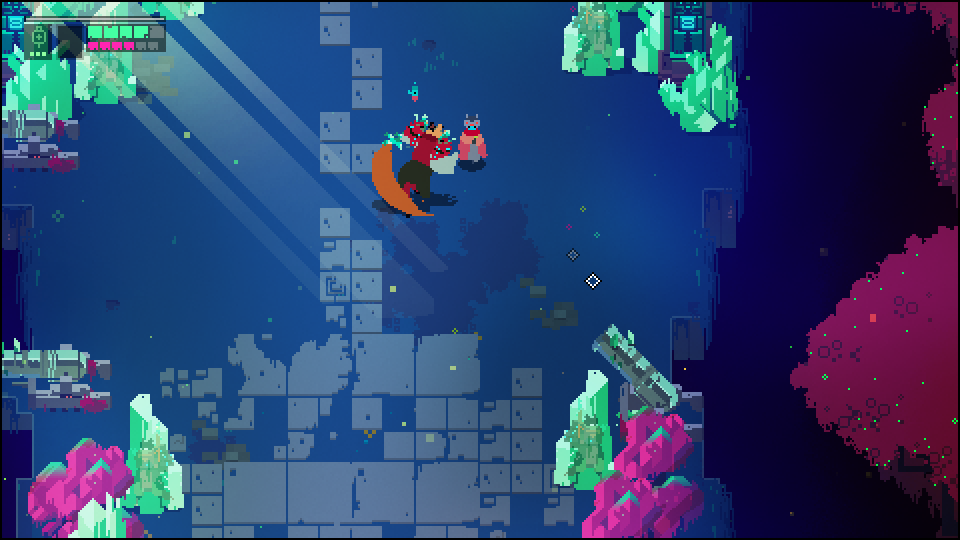hanged_man: (368, 112, 463, 216)
player: (457, 113, 492, 169)
